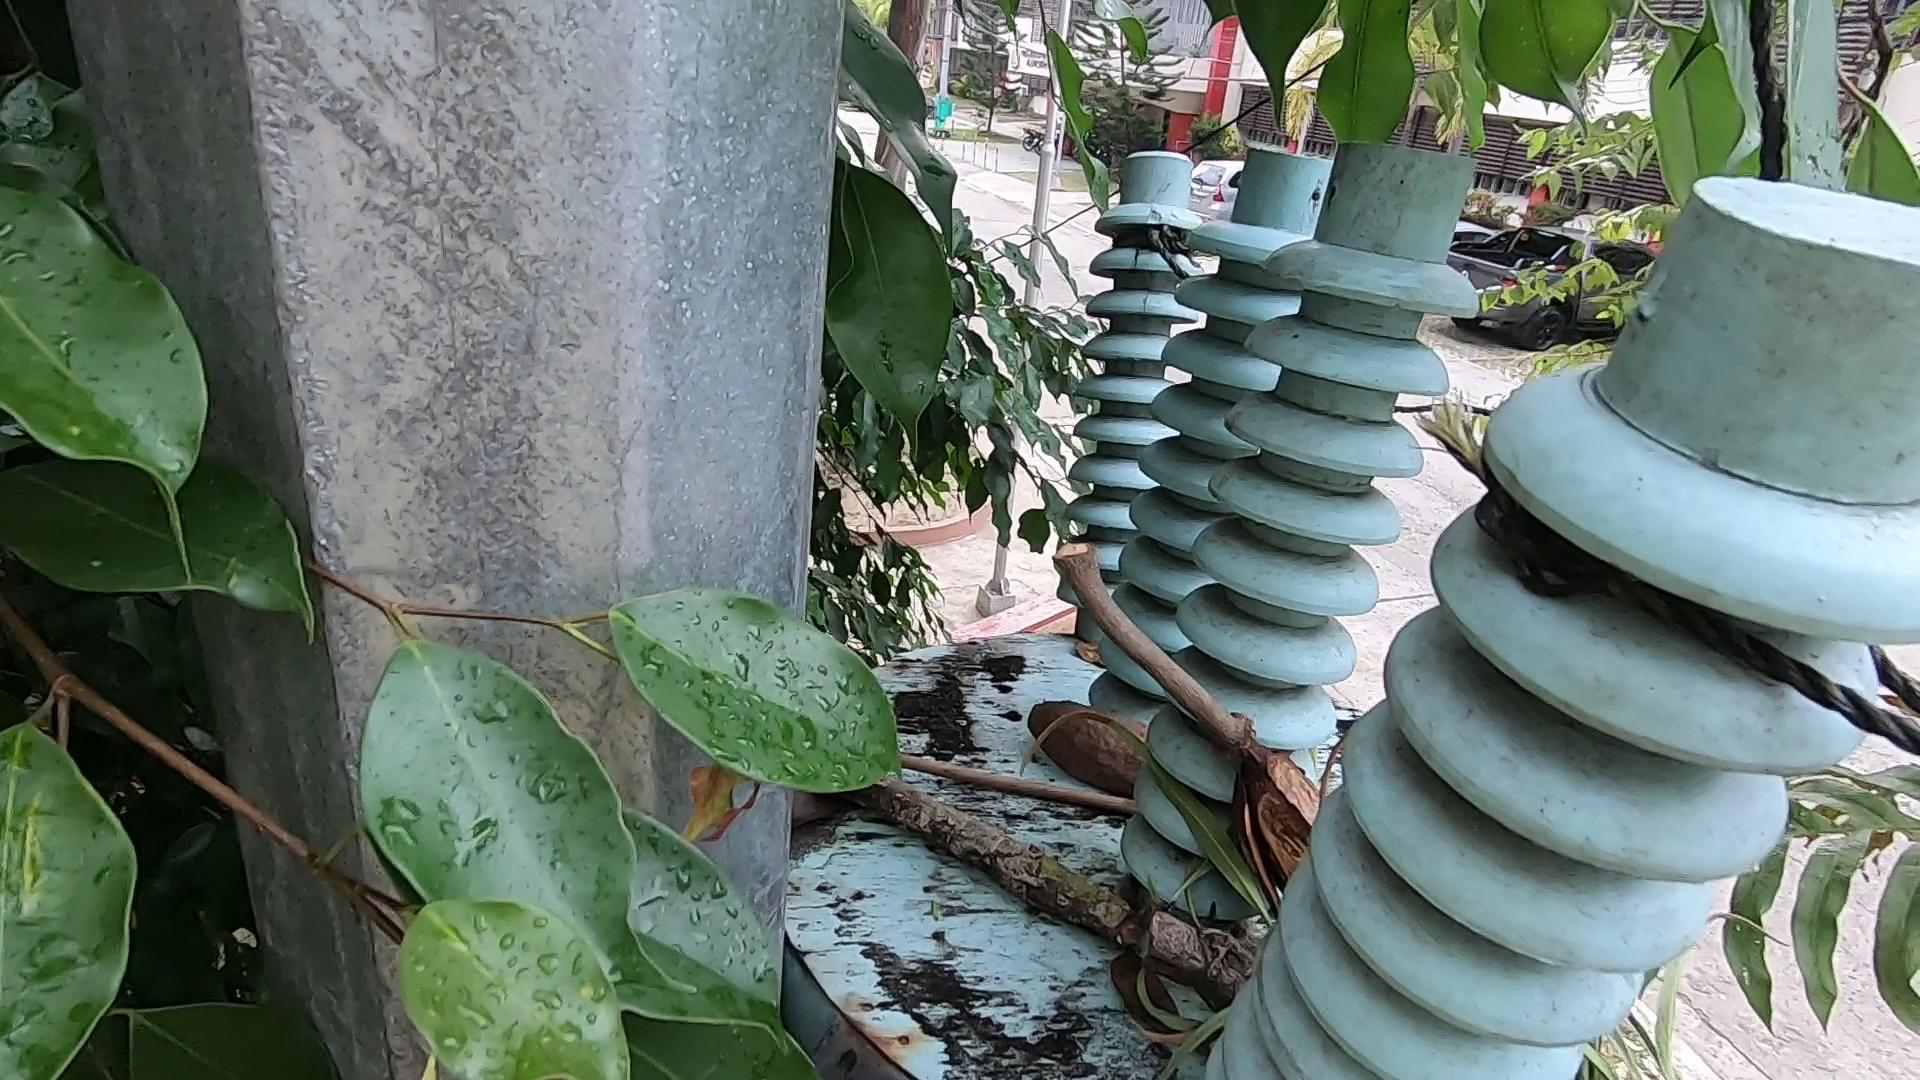branch with leaves: (851, 774, 1261, 984)
leaf: (1113, 928, 1174, 1044), (1076, 644, 1108, 678)
mahogany fruit: (1204, 719, 1362, 945), (976, 680, 1208, 829)
tree branch: (1065, 546, 1279, 774), (897, 752, 1139, 811)
